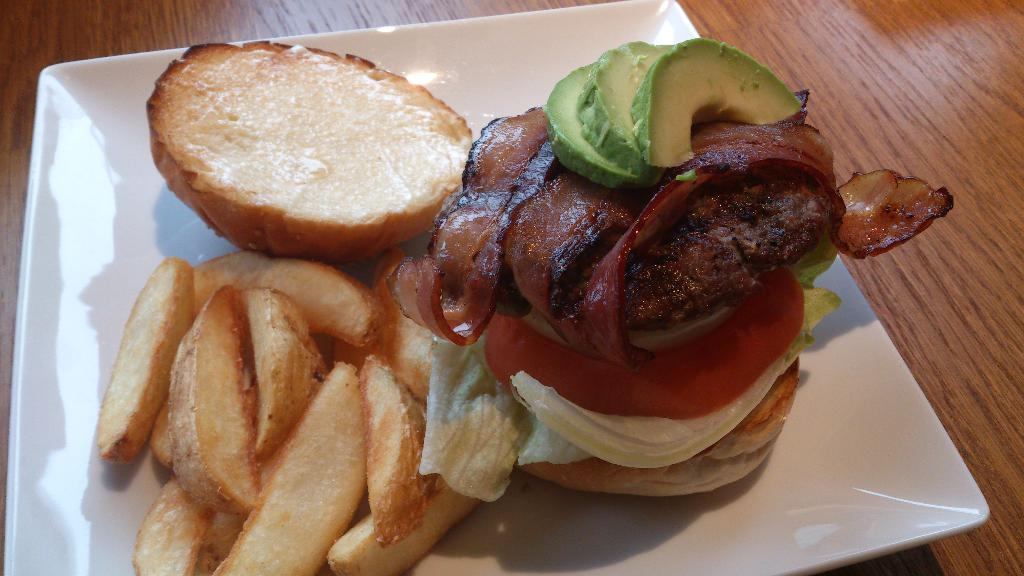French fries: (58, 220, 455, 551)
